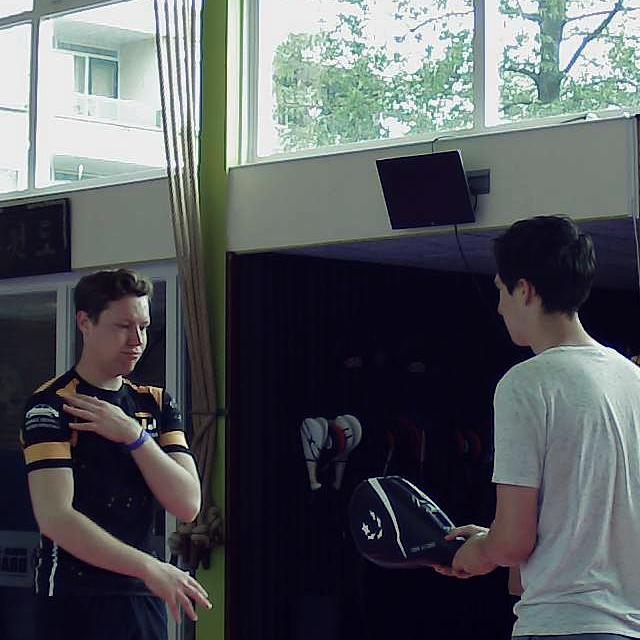paddle: (348, 470, 466, 570)
